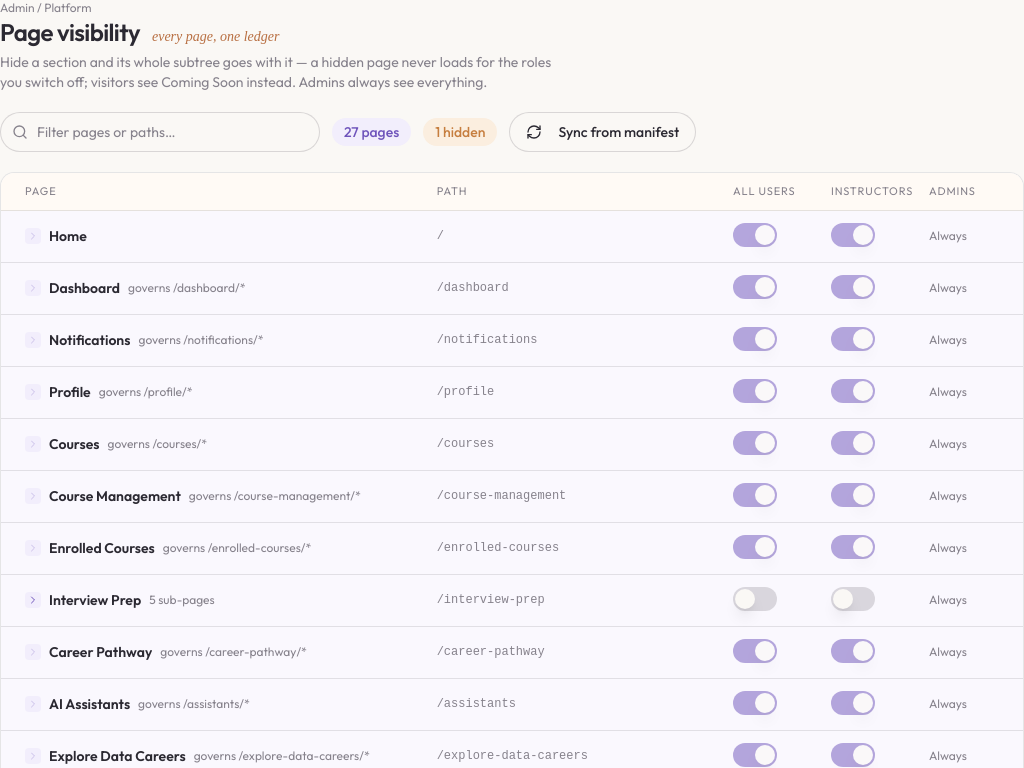
Test: PageVisibilityManager › filters rows by name or path
The image size is (1024, 768).
Type "star" into the field with placeholder "Filter pages or paths…" at (160, 132), box [0,112,320,152]
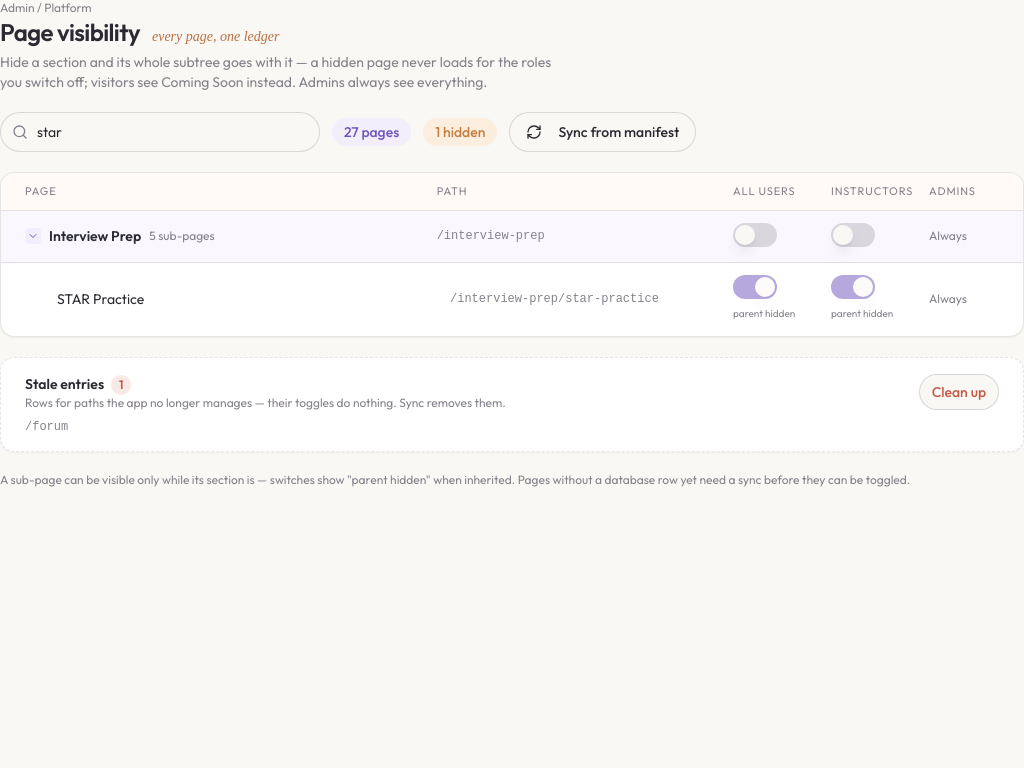
Expected: the element with test id "visibility-row-/interview-prep/star-practice" is shown, [1,262,1023,336]
